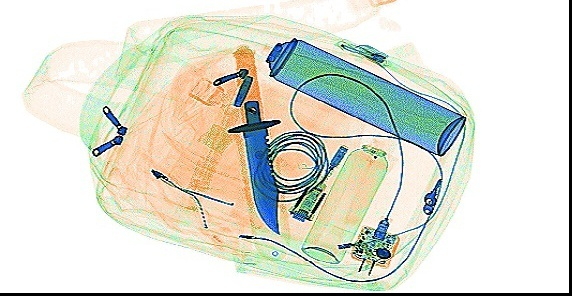knife: (232, 42, 279, 235)
pressure: (250, 29, 466, 156), (299, 135, 389, 263)
